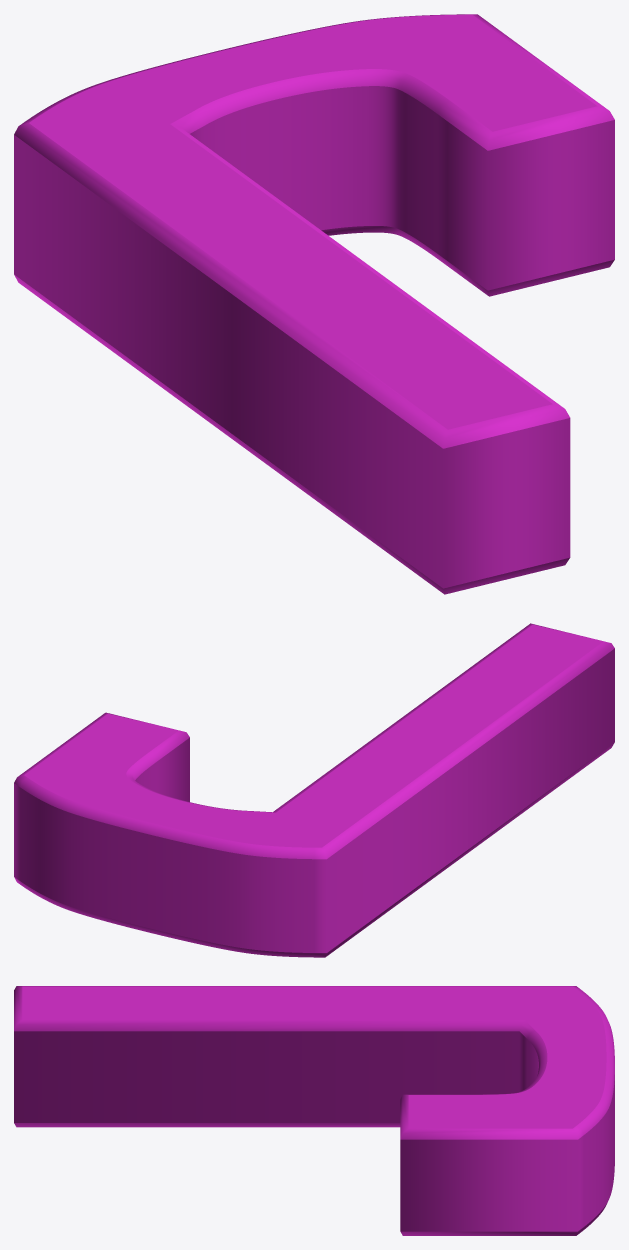
File: Letter_J_Capital_CoolFont.fbx
3 renders of one model, top to bottom at view 1: azimuth 30°, elevation 25°; view 2: azimuth 150°, elevation 25°; view 3: azimuth 270°, elevation 25°, orthographic. The views are drawn at different scales.
Visible parts, largest first — view 1: Letter_J; view 2: Letter_J; view 3: Letter_J.
Part boxes in pixels (x1,y1,x2,y2): Letter_J: (14,14,614,594); Letter_J: (14,623,614,957); Letter_J: (14,986,614,1235).
Size of the model in its own units: 0.4186 by 0.14 by 0.712.
